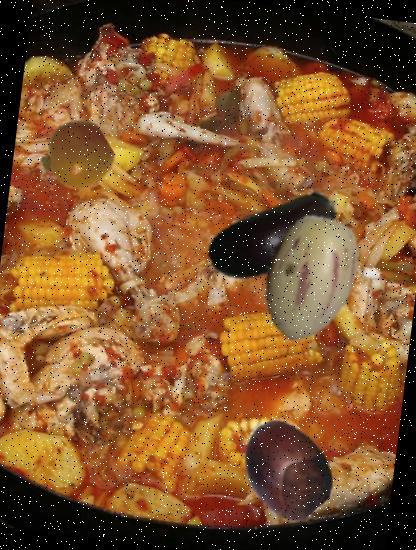Chestnut: (229, 413, 343, 527)
Eggplant: (195, 158, 355, 318)
Pepino: (236, 205, 382, 351)
Physalis: (36, 117, 114, 195)
